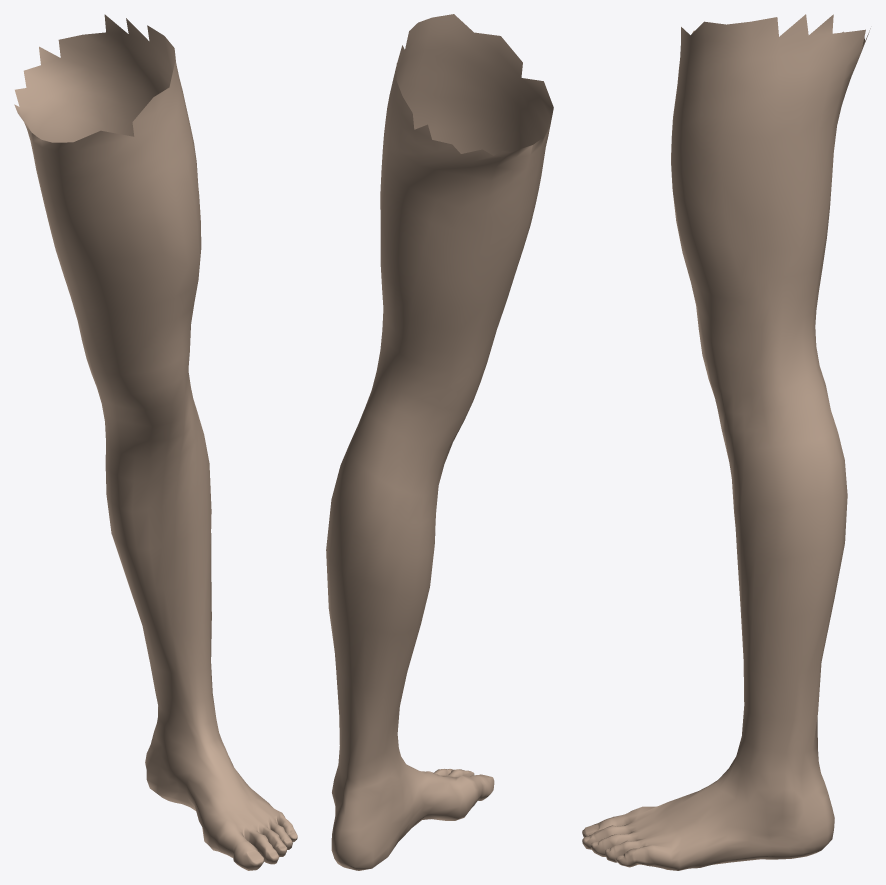
Rendered from right_leg.glb.
3 views of the same model, side by side, from view 1: azimuth 30°, elevation 25°; view 2: azimuth 150°, elevation 25°; view 3: azimuth 270°, elevation 25° (orthographic). The views are drawn at different scales.
Parts seen in each view (by area): view 1: base_humanMesh_base_human_0.002; view 2: base_humanMesh_base_human_0.002; view 3: base_humanMesh_base_human_0.002.
Boxes of the visible parts, x1=… form: base_humanMesh_base_human_0.002: x1=14, y1=14, x2=297, y2=870; base_humanMesh_base_human_0.002: x1=326, y1=14, x2=553, y2=870; base_humanMesh_base_human_0.002: x1=582, y1=14, x2=870, y2=870.
Size of the model in its own units: 0.2817 by 1.06 by 0.3392.
